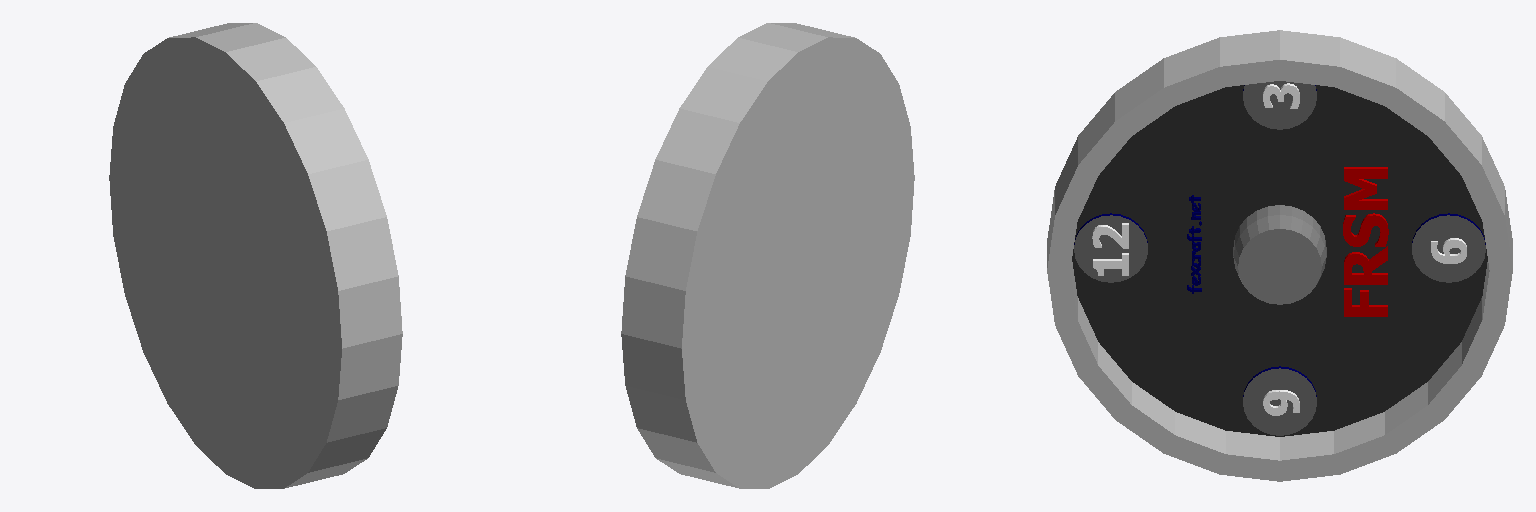
The model's file is Clock3.obj.
3 views of the same model, side by side, from view 1: azimuth 30°, elevation 25°; view 2: azimuth 150°, elevation 25°; view 3: azimuth 270°, elevation 25° (orthographic).
Visible parts, largest first — view 1: Object.1, Object.2; view 2: Object.1, Object.2; view 3: Object.7, Object.2, Object.6, Object.4, Object.15, Object.8, Object.10, Object.13, Object.18, Object.16, Object.17, Object.20 (+4 smaller).
Boxes of the visible parts, x1=… form: Object.1: x1=109, y1=37, x2=341, y2=488; Object.2: x1=169, y1=23, x2=402, y2=488; Object.1: x1=682, y1=37, x2=914, y2=488; Object.2: x1=621, y1=23, x2=854, y2=488; Object.7: x1=1072, y1=85, x2=1487, y2=436; Object.2: x1=1047, y1=30, x2=1512, y2=481; Object.6: x1=1070, y1=262, x2=1489, y2=460; Object.4: x1=1233, y1=205, x2=1326, y2=304; Object.15: x1=1412, y1=215, x2=1485, y2=282; Object.8: x1=1243, y1=368, x2=1316, y2=435; Object.10: x1=1074, y1=215, x2=1147, y2=282; Object.13: x1=1243, y1=81, x2=1316, y2=129; Object.18: x1=1344, y1=167, x2=1387, y2=209; Object.16: x1=1344, y1=246, x2=1387, y2=284; Object.17: x1=1343, y1=213, x2=1388, y2=246; Object.20: x1=1344, y1=288, x2=1387, y2=316.
Bounding box in the file's own units: 5.91 × 39.37 × 39.37.